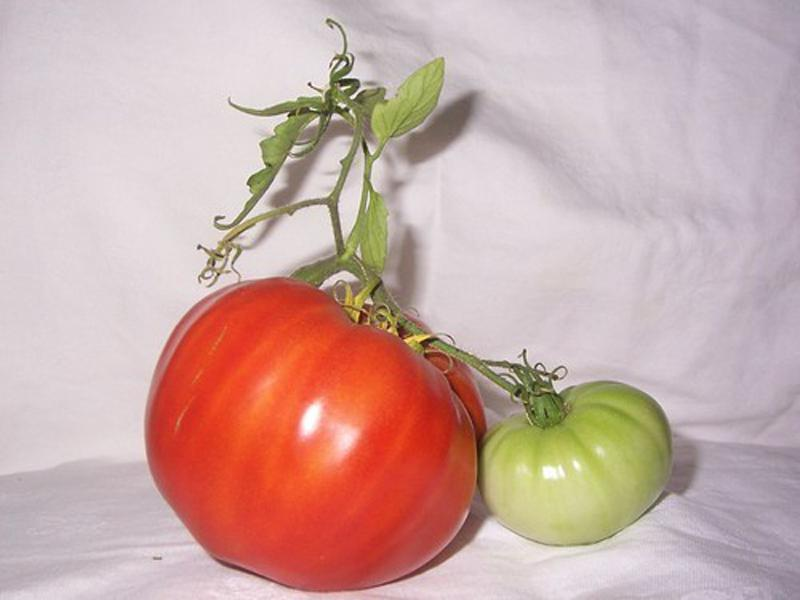Tomato: (144, 277, 486, 589)
